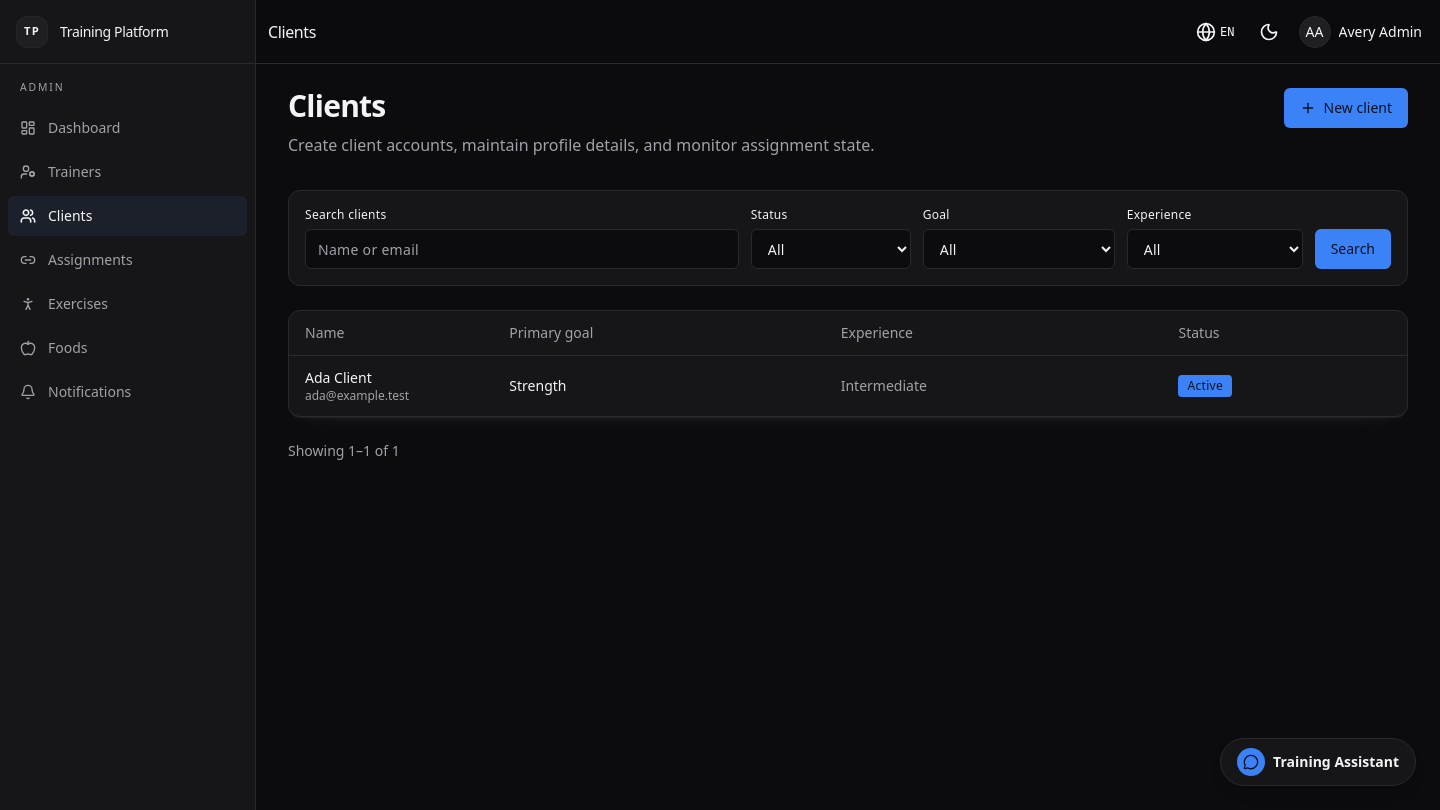
Test case: Admin workspace › clients and assignments › creates a client account from the admin list
The width and height of the screenshot is (1440, 810).
Check: the heading "Clients" is shown, box [288,88,386,124]
Click the button "New client" at (1346, 108), box [1284,88,1408,128]
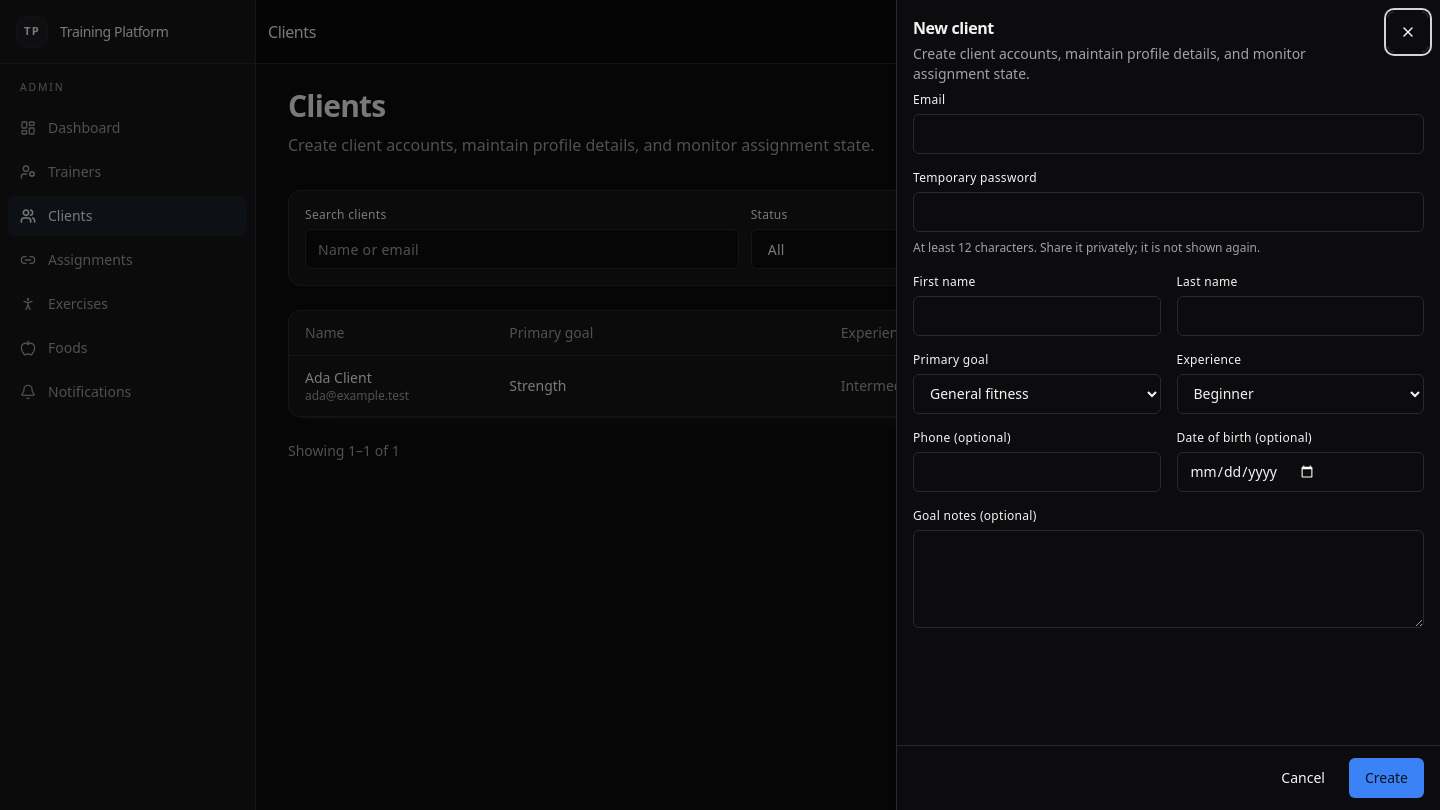
Type "beatrice@example.test" into the field labelled "Email" at (1168, 134), box [913,114,1424,154]
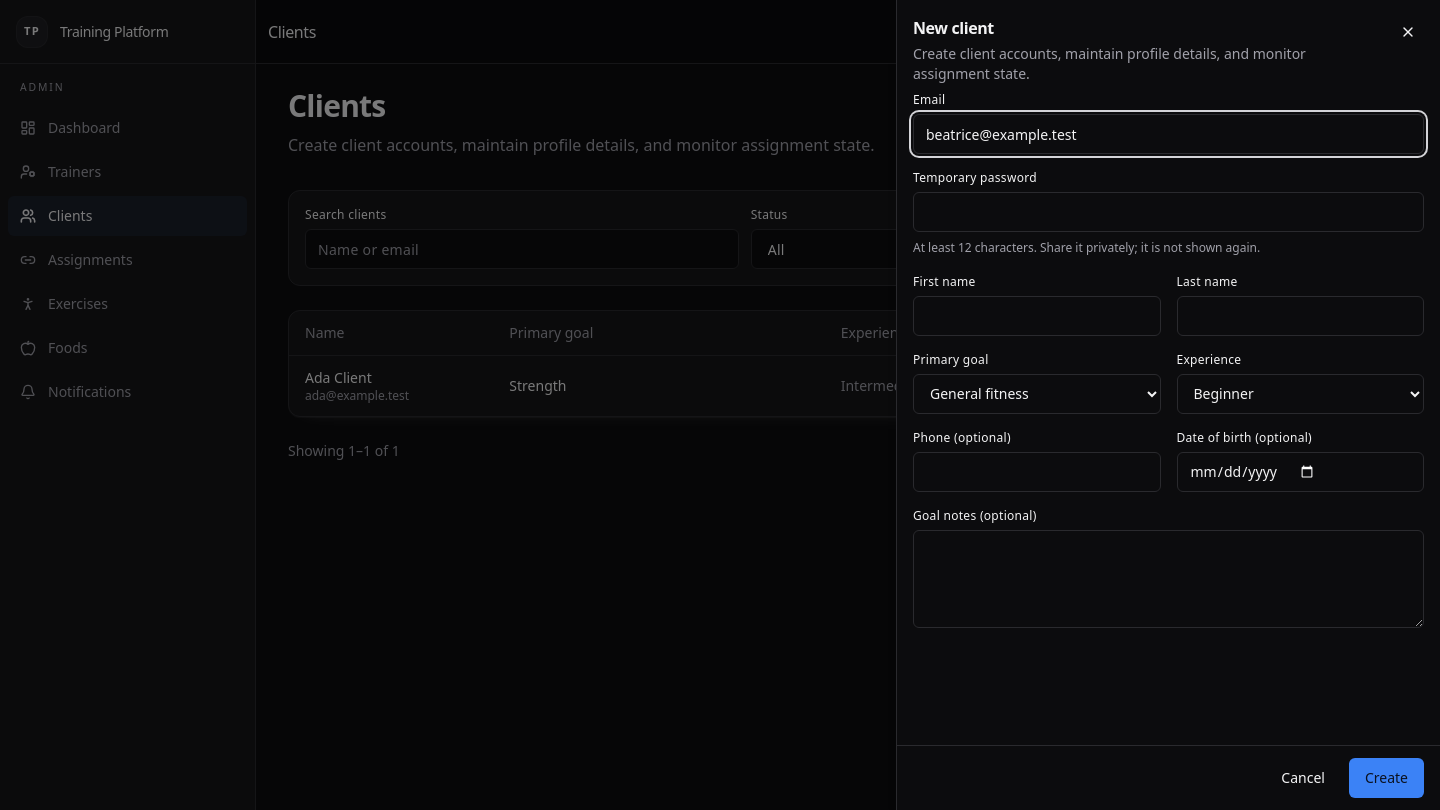
Type "temporary-pass" into the password field labelled "Temporary password" at (1168, 212), box [913,192,1424,232]
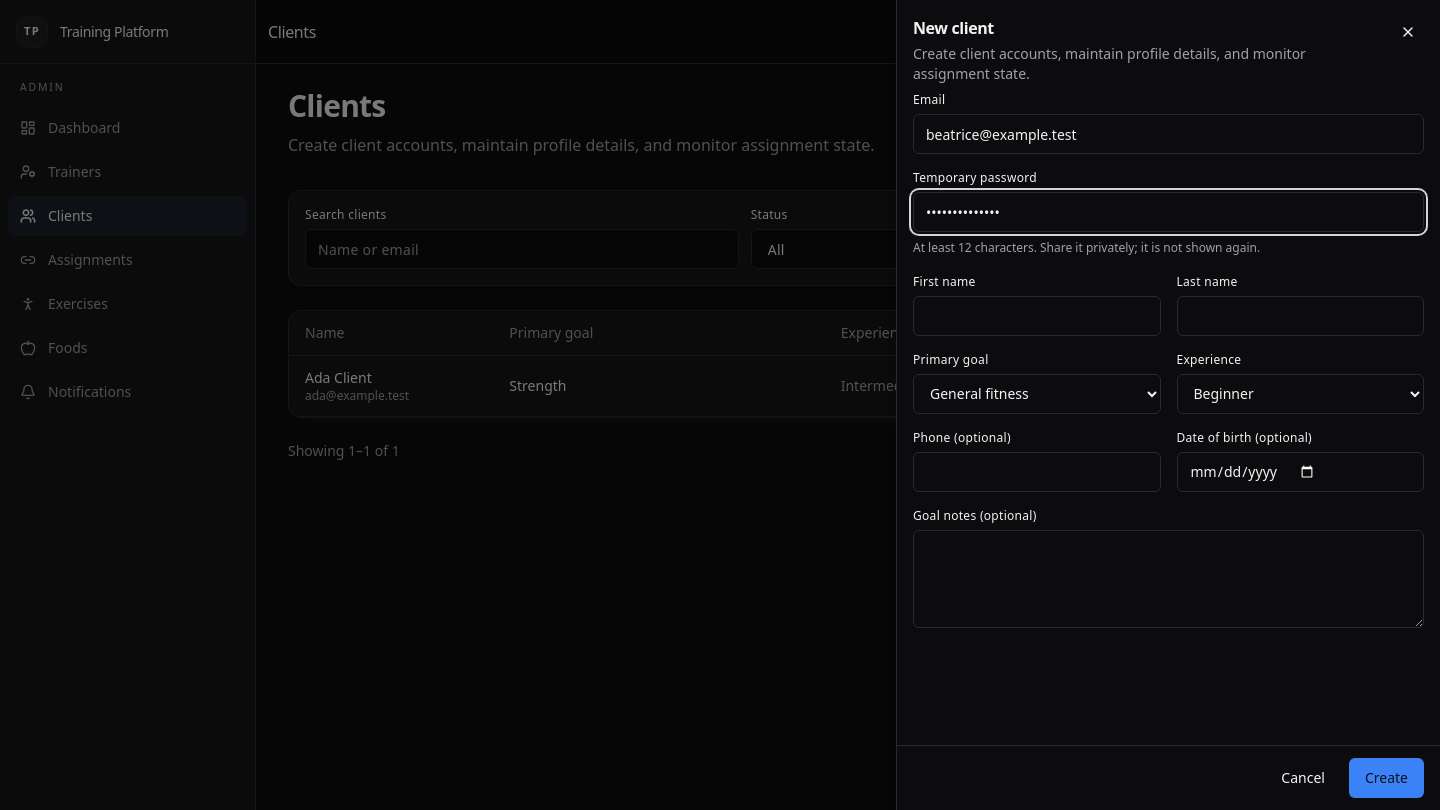
Type "Beatrice" into the field labelled "First name" at (1037, 316), box [913,296,1160,336]
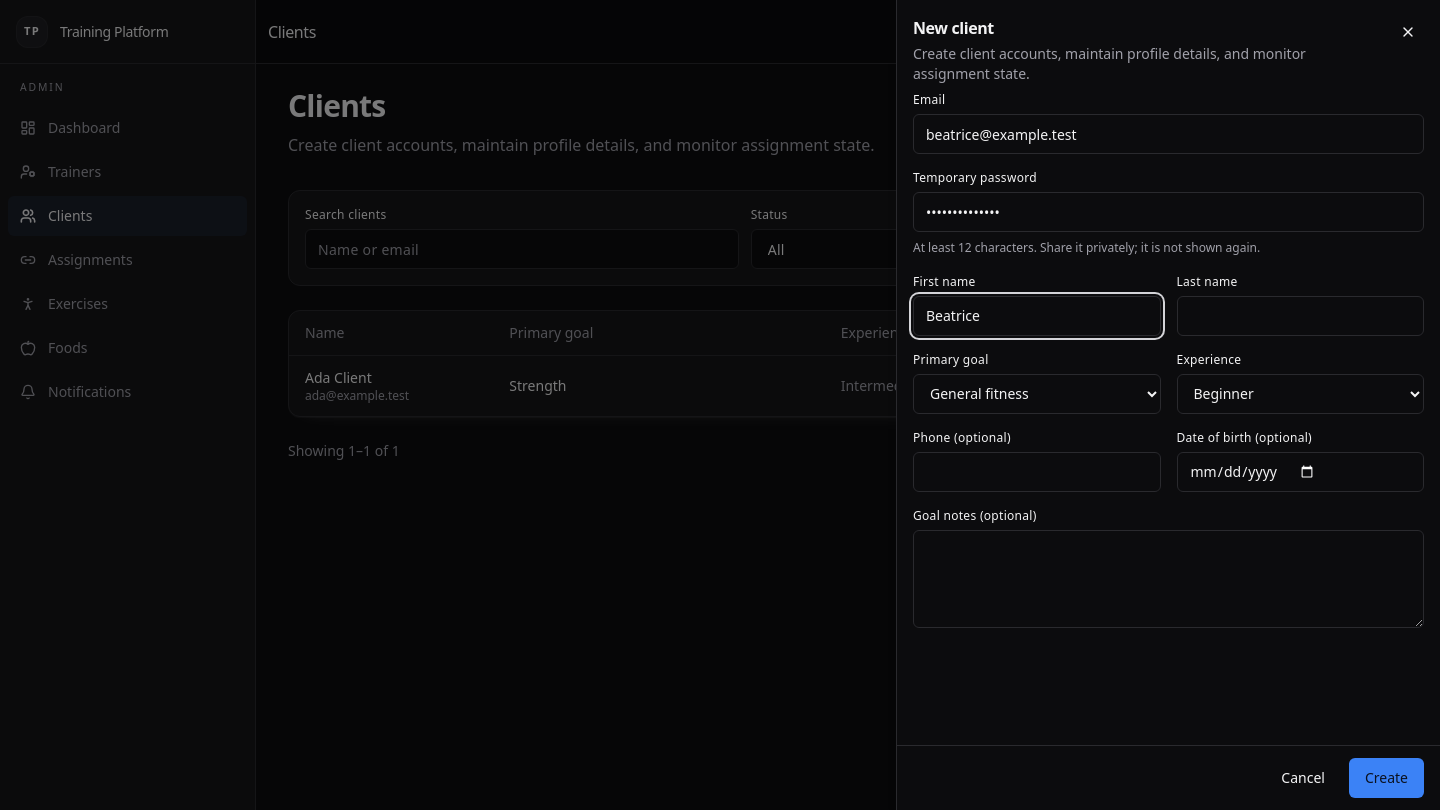
Type "Client" into the field labelled "Last name" at (1300, 316), box [1176,296,1424,336]
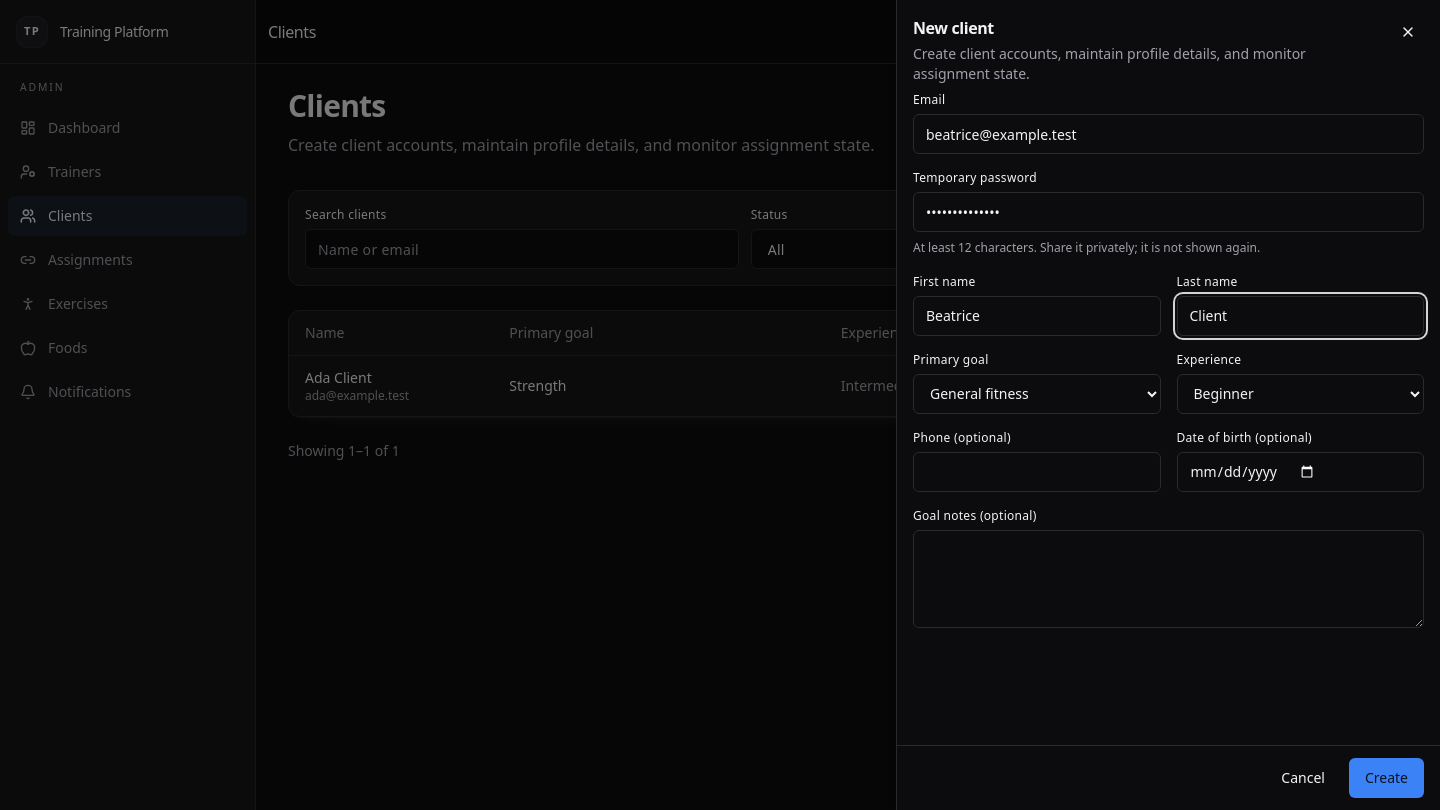
Click the button "Create" at (1386, 778), box [1349,758,1424,798]
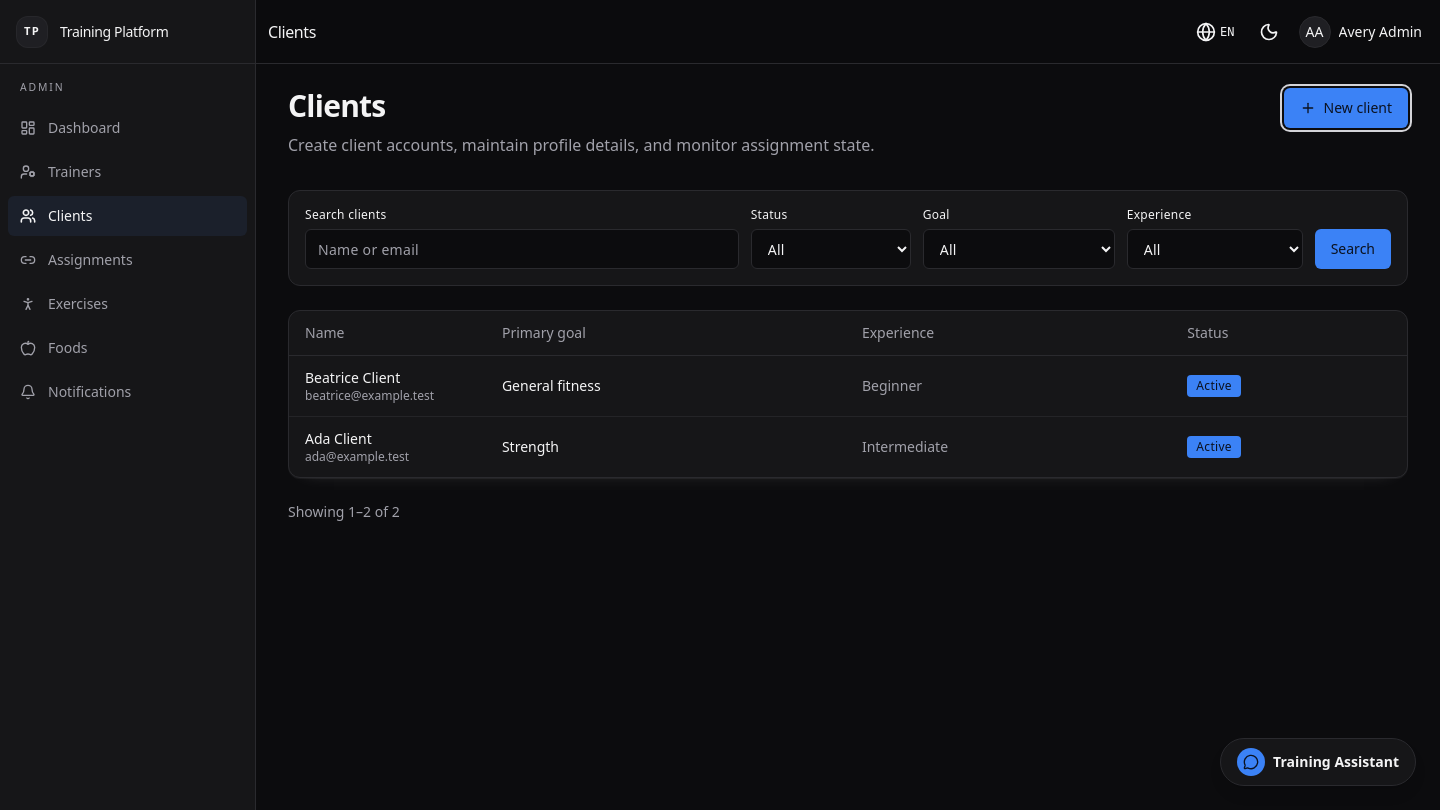
Check: the link "Beatrice Client" is shown, box [305,368,400,387]
